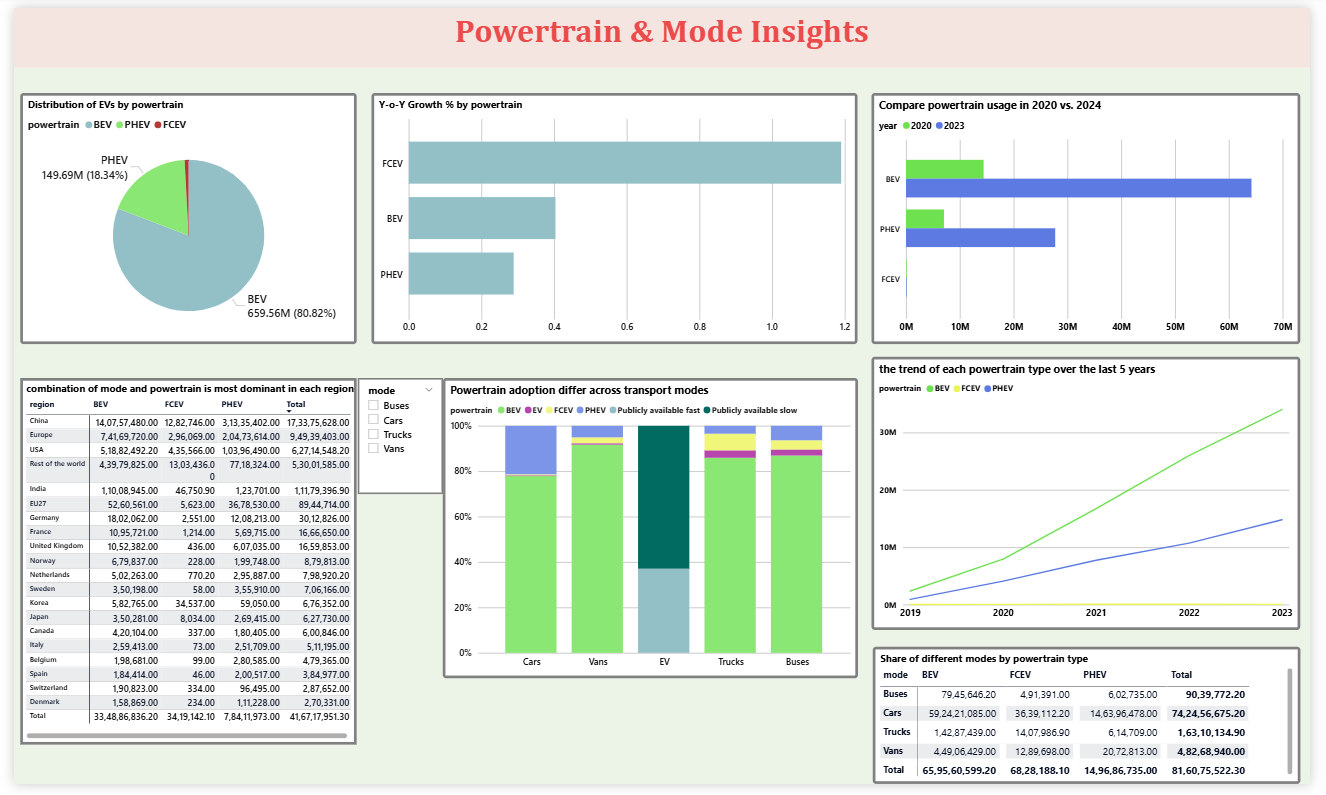

What the dashboard file says about the page in this screenshot:
{"tool":"powerbi","page":{"name":"Page 2","canvas":[1920,1150],"ordinal":1},"visuals":[{"type":"pieChart","title":"Distribution of EVs by powertrain ","fields":{"Y":["EV_dataset.sum of ev values"],"Category":["EV_dataset.powertrain"]},"box":[10,126.7,498.3,371.7],"z":0},{"type":"clusteredBarChart","fields":{"Category":["EV_dataset.powertrain"],"Y":["EV_dataset.Y-o-Y Growth %"]},"box":[530,126.7,720,371.7],"z":1000},{"type":"hundredPercentStackedColumnChart","title":"Powertrain adoption differ across transport modes","fields":{"Category":["EV_dataset.mode"],"Y":["EV_dataset.sum of ev values"],"Series":["EV_dataset.powertrain"]},"box":[635,548.3,615,445],"z":2000},{"type":"pivotTable","title":"Share of different modes by powertrain type","fields":{"Rows":["EV_dataset.mode"],"Columns":["EV_dataset.powertrain"],"Values":["EV_dataset.sum of ev values"]},"box":[1271.7,946.7,633.3,203.3],"z":3000},{"type":"pivotTable","title":"combination of mode and powertrain is most dominant in each region","fields":{"Rows":["EV_dataset.region"],"Columns":["EV_dataset.powertrain"],"Values":["EV_dataset.sum of ev values"]},"box":[10,548.3,498.3,543.3],"z":4000},{"type":"slicer","fields":{"Values":["EV_dataset.mode"]},"box":[508.3,548.3,126.7,171.7],"z":5000},{"type":"clusteredBarChart","title":"Compare powertrain usage in 2020 vs. 2024","fields":{"Category":["EV_dataset.powertrain"],"Y":["EV_dataset.sum of ev values"],"Series":["EV_dataset.year"]},"box":[1270,126.7,635,371.7],"z":6000},{"type":"lineChart","title":"the trend of each powertrain type over the last 5 years","fields":{"Category":["EV_dataset.year"],"Y":["EV_dataset.sum of ev values"],"Series":["EV_dataset.powertrain"]},"box":[1270,516.7,635,405],"z":7000},{"type":"textbox","box":[0,0,1920,88.3],"z":8000}]}

Visuals, with their boxes in screenshot pixels (x1, y1, x2, y2), scaled from the page's 1920x1150 canvas onto the 1326x795 screenshot:
"Distribution of EVs by powertrain " pieChart: box=[7, 88, 351, 345]
clusteredBarChart - EV_dataset.powertrain x EV_dataset.Y-o-Y Growth %: box=[366, 88, 863, 345]
"Powertrain adoption differ across transport modes" hundredPercentStackedColumnChart: box=[439, 379, 863, 687]
"Share of different modes by powertrain type" pivotTable: box=[878, 654, 1316, 794]
"combination of mode and powertrain is most dominant in each region" pivotTable: box=[7, 379, 351, 755]
slicer - EV_dataset.mode: box=[351, 379, 439, 498]
"Compare powertrain usage in 2020 vs. 2024" clusteredBarChart: box=[877, 88, 1316, 345]
"the trend of each powertrain type over the last 5 years" lineChart: box=[877, 357, 1316, 637]
textbox: box=[0, 0, 1325, 61]
